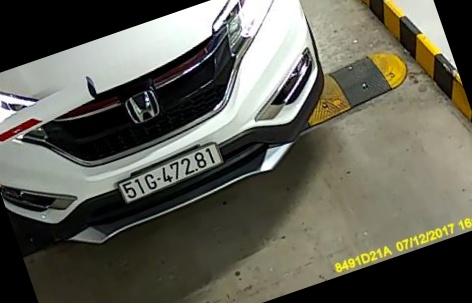plate: (111, 142, 233, 210)
